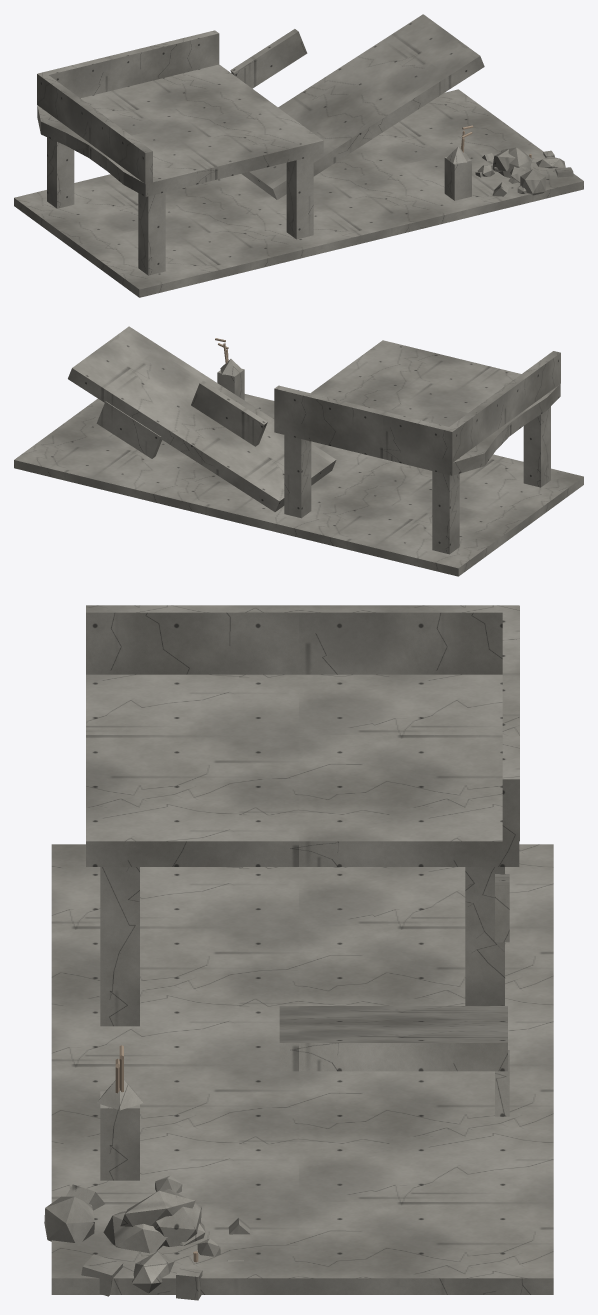
Rendered from Parking_Ramp.fbx.
The picture shows the model from 3 angles, top to bottom: view 1: azimuth 30°, elevation 25°; view 2: azimuth 150°, elevation 25°; view 3: azimuth 270°, elevation 25°; orthographic projection. The views are drawn at different scales.
Visible parts, largest first — view 1: Parking_Ramp; view 2: Parking_Ramp; view 3: Parking_Ramp.
Boxes of the visible parts, <box> form: Parking_Ramp: <box>14,14,583,297</box>; Parking_Ramp: <box>14,326,583,576</box>; Parking_Ramp: <box>44,605,553,1300</box>.
Size of the model in its own units: 9.11 by 2.63 by 4.46.
2 materials, 1 textured.
